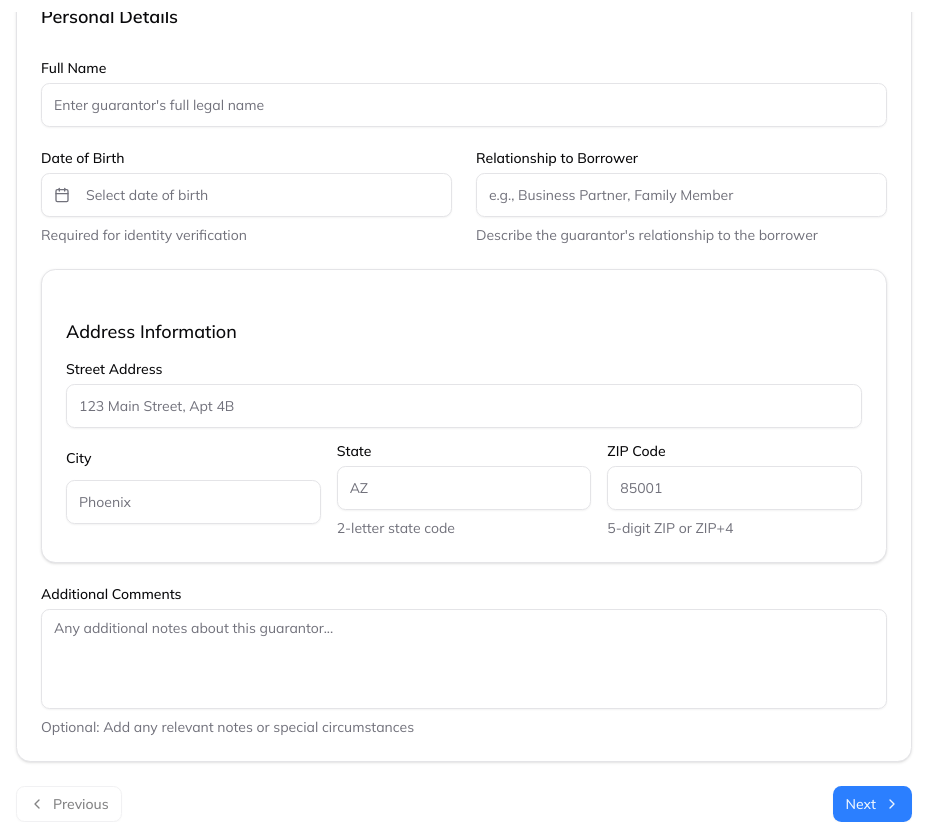
Scenario: GuarantorForm › shows validation errors for required fields
(page scrolled)
Note: Try to proceed to next step without filling required fields
What coordinates should you click on to do the following:
click the button "Next"
I would click on:
 (873, 804)
Its box is [833, 786, 912, 821].
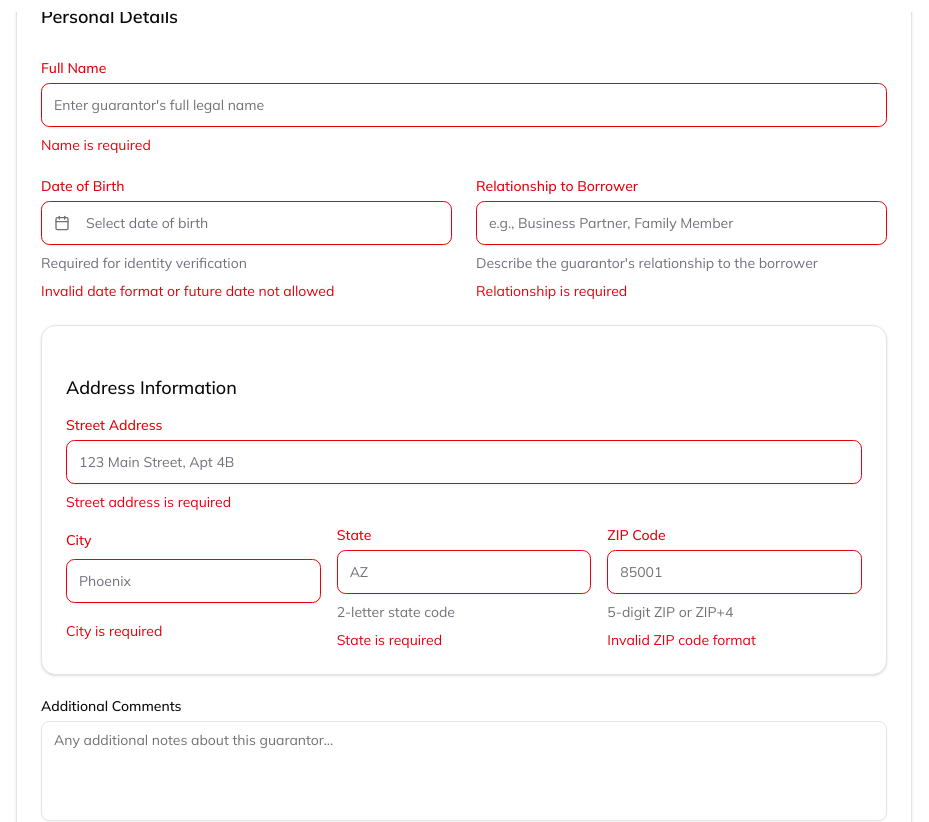
expect the text "Name is required" is shown: met, box [41, 136, 151, 154]
